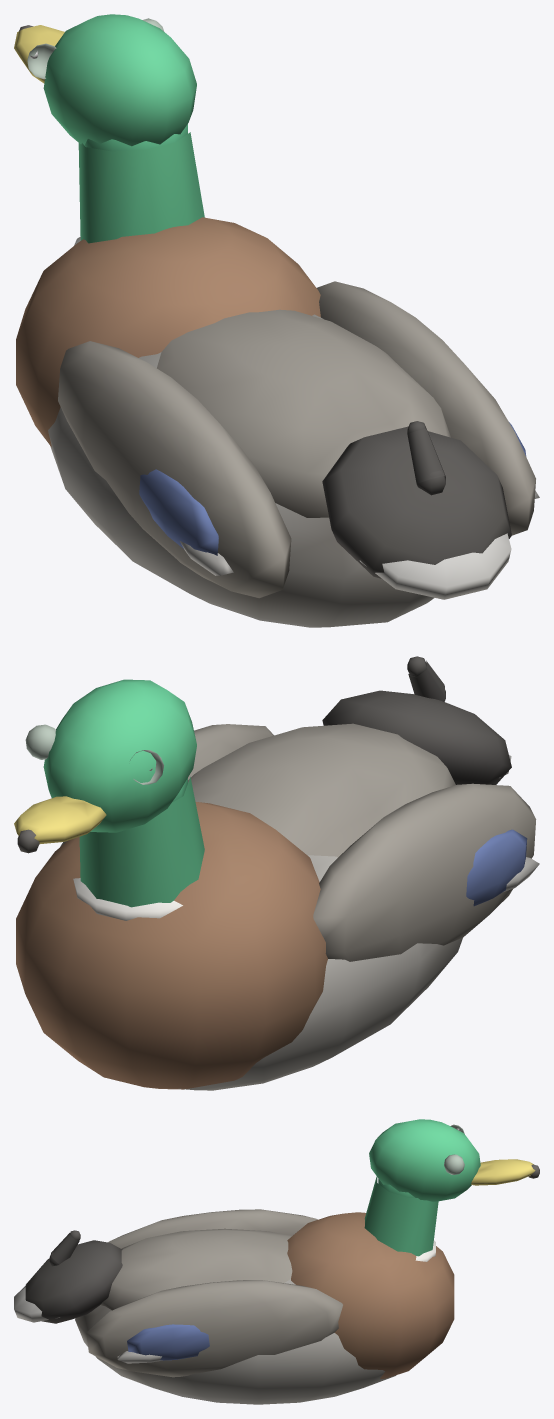
Rendered from duck.glb.
3 views of the same model, one above another, from view 1: azimuth 30°, elevation 25°; view 2: azimuth 150°, elevation 25°; view 3: azimuth 270°, elevation 25° (orthographic). The views are drawn at different scales.
Parts seen in each view (by area): view 1: body, head; view 2: body, head; view 3: body, head.
Boxes of the visible parts, x1,y1,x2,y2 form: body: (16,217,539,627); head: (14,14,204,245); body: (16,656,539,1090); head: (14,679,204,920); body: (14,1209,454,1404); head: (364,1119,539,1261).
Bounding box in the file's own units: 0.2748 × 0.3546 × 0.6309.
